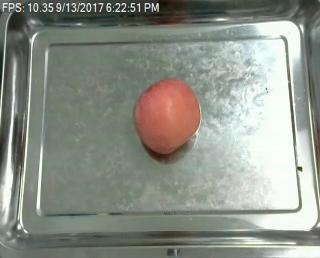apple: (133, 79, 201, 154)
